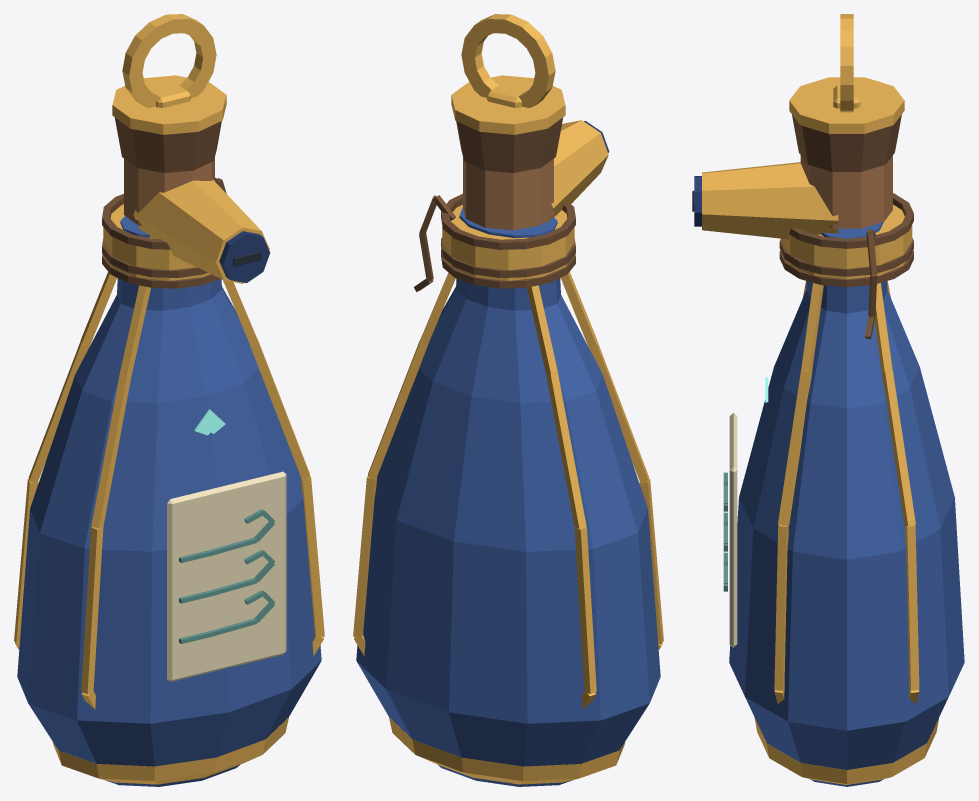
Rendered from magic_wind_bottle.glb.
The picture shows the model from 3 angles, left to right: view 1: azimuth 30°, elevation 25°; view 2: azimuth 150°, elevation 25°; view 3: azimuth 270°, elevation 25°; orthographic projection.
Parts seen in each view (by area): view 1: magic_wind_bottle__faceted_wind_canteen, magic_wind_bottle__cream_wind_label, magic_wind_bottle, magic_wind_bottle__whistle_spout, magic_wind_bottle__stopper_carry_loop, magic_wind_bottle__stopper_gold_top, magic_wind_bottle__gold_foot, magic_wind_bottle__cork_stop, magic_wind_bottle__cork_neck, magic_wind_bottle__neck_brass_cuff, magic_wind_bottle__whistle_mouth, magic_wind_bottle__neck_rope_turn_0.304 (+3 smaller); view 2: magic_wind_bottle__faceted_wind_canteen, magic_wind_bottle, magic_wind_bottle__cork_neck, magic_wind_bottle__stopper_carry_loop, magic_wind_bottle__stopper_gold_top, magic_wind_bottle__gold_foot, magic_wind_bottle__cork_stop, magic_wind_bottle__neck_brass_cuff, magic_wind_bottle__whistle_spout, magic_wind_bottle__neck_rope_turn_0.304, magic_wind_bottle__neck_rope_turn_0.288, magic_wind_bottle__neck_rope_turn_0.282 (+1 smaller); view 3: magic_wind_bottle__faceted_wind_canteen, magic_wind_bottle, magic_wind_bottle__whistle_spout, magic_wind_bottle__stopper_gold_top, magic_wind_bottle__cork_neck, magic_wind_bottle__cork_stop, magic_wind_bottle__neck_brass_cuff, magic_wind_bottle__gold_foot, magic_wind_bottle__cream_wind_label, magic_wind_bottle__neck_rope_turn_0.304, magic_wind_bottle__stopper_carry_loop, magic_wind_bottle__neck_rope_turn_0.288 (+1 smaller).
Part boxes in pixels (x1=…): magic_wind_bottle__faceted_wind_canteen: x1=17, y1=216, x2=321, y2=786; magic_wind_bottle__cream_wind_label: x1=167, y1=471, x2=286, y2=681; magic_wind_bottle: x1=14, y1=177, x2=324, y2=709; magic_wind_bottle__whistle_spout: x1=133, y1=179, x2=269, y2=283; magic_wind_bottle__stopper_carry_loop: x1=122, y1=14, x2=216, y2=108; magic_wind_bottle__stopper_gold_top: x1=112, y1=75, x2=226, y2=134; magic_wind_bottle__gold_foot: x1=53, y1=717, x2=288, y2=784; magic_wind_bottle__cork_stop: x1=114, y1=117, x2=221, y2=172; magic_wind_bottle__cork_neck: x1=124, y1=157, x2=214, y2=226; magic_wind_bottle__neck_brass_cuff: x1=103, y1=204, x2=210, y2=280; magic_wind_bottle__whistle_mouth: x1=219, y1=231, x2=270, y2=283; magic_wind_bottle__neck_rope_turn_0.304: x1=102, y1=194, x2=170, y2=249; magic_wind_bottle__faceted_wind_canteen: x1=356, y1=207, x2=660, y2=786; magic_wind_bottle: x1=353, y1=195, x2=663, y2=709; magic_wind_bottle__cork_neck: x1=463, y1=157, x2=553, y2=230; magic_wind_bottle__stopper_carry_loop: x1=461, y1=14, x2=555, y2=108; magic_wind_bottle__stopper_gold_top: x1=451, y1=75, x2=565, y2=134; magic_wind_bottle__gold_foot: x1=389, y1=717, x2=624, y2=784; magic_wind_bottle__cork_stop: x1=456, y1=117, x2=563, y2=172; magic_wind_bottle__neck_brass_cuff: x1=442, y1=204, x2=574, y2=280; magic_wind_bottle__whistle_spout: x1=544, y1=120, x2=608, y2=222; magic_wind_bottle__neck_rope_turn_0.304: x1=441, y1=193, x2=575, y2=249; magic_wind_bottle__neck_rope_turn_0.288: x1=441, y1=237, x2=575, y2=277; magic_wind_bottle__neck_rope_turn_0.282: x1=441, y1=249, x2=575, y2=288; magic_wind_bottle__faceted_wind_canteen: x1=729, y1=221, x2=964, y2=786; magic_wind_bottle: x1=723, y1=229, x2=919, y2=703; magic_wind_bottle__whistle_spout: x1=702, y1=162, x2=838, y2=239; magic_wind_bottle__stopper_gold_top: x1=789, y1=77, x2=904, y2=133; magic_wind_bottle__cork_neck: x1=800, y1=155, x2=892, y2=228; magic_wind_bottle__cork_stop: x1=792, y1=114, x2=901, y2=171; magic_wind_bottle__neck_brass_cuff: x1=781, y1=204, x2=912, y2=279; magic_wind_bottle__gold_foot: x1=754, y1=717, x2=939, y2=784; magic_wind_bottle__cream_wind_label: x1=729, y1=413, x2=737, y2=647; magic_wind_bottle__neck_rope_turn_0.304: x1=789, y1=193, x2=913, y2=248; magic_wind_bottle__stopper_carry_loop: x1=840, y1=14, x2=853, y2=112; magic_wind_bottle__neck_rope_turn_0.288: x1=779, y1=238, x2=913, y2=276.
Size of the model in its own units: 0.168 by 0.42 by 0.1418.
